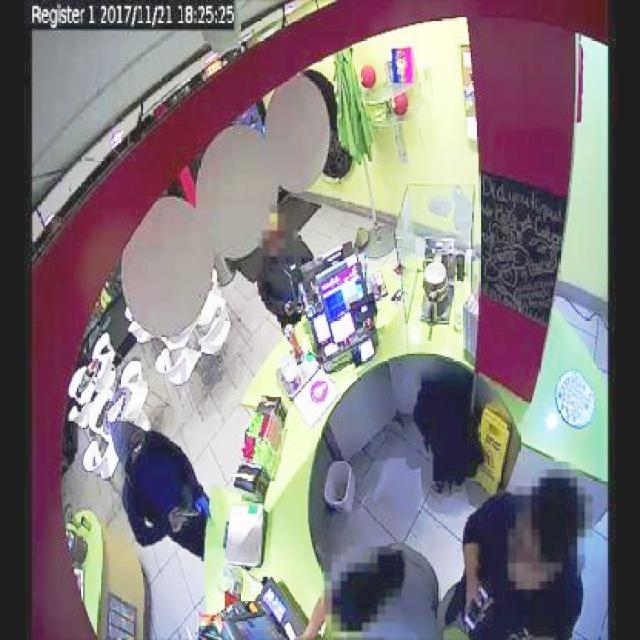Gun: (165, 499, 209, 530)
